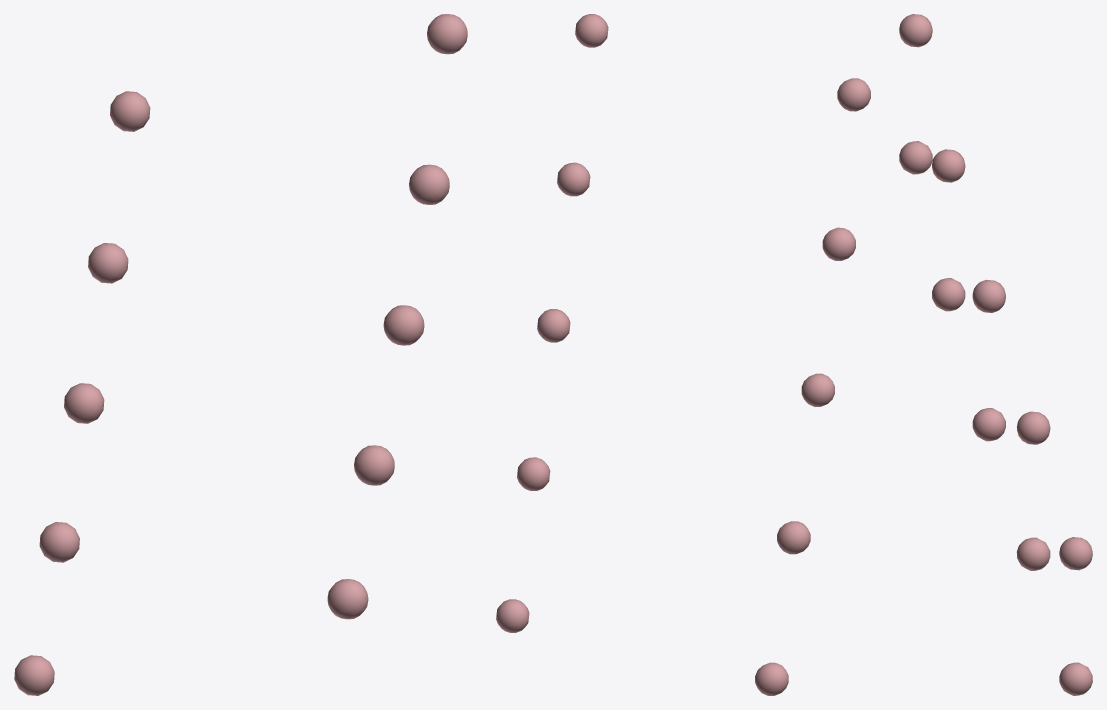
3 views of the same model, side by side, from view 1: azimuth 30°, elevation 25°; view 2: azimuth 150°, elevation 25°; view 3: azimuth 270°, elevation 25° (orthographic). The views are drawn at different scales.
Parts seen in each view (by area): view 1: ZA_148364febef3965b; view 2: ZA_148364febef3965b; view 3: ZA_148364febef3965b.
Part boxes in pixels (x1=…): ZA_148364febef3965b: x1=14, y1=14, x2=467, y2=695; ZA_148364febef3965b: x1=496, y1=14, x2=870, y2=695; ZA_148364febef3965b: x1=899, y1=14, x2=1092, y2=695.
Bounding box in the file's own units: 0.0258 × 0.0466 × 0.0148.
